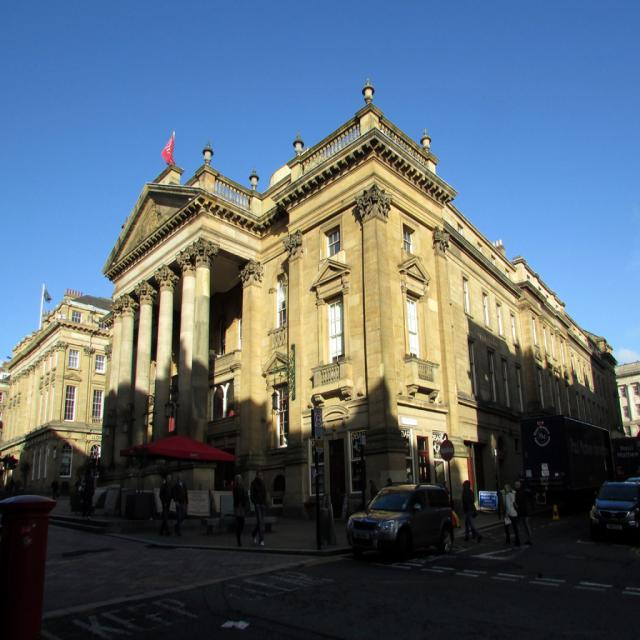car: (345, 482, 462, 560)
